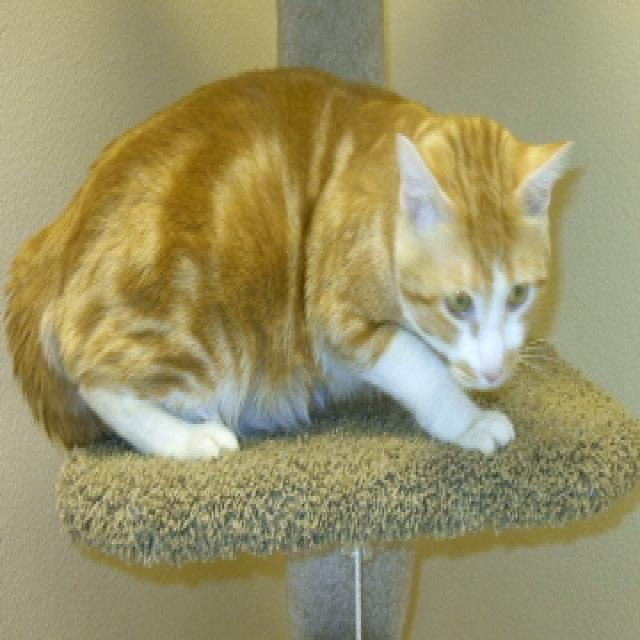Cats: (2, 61, 576, 462)
